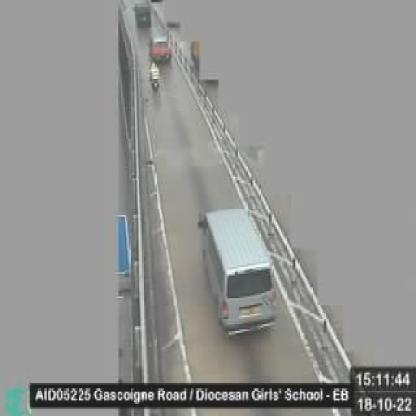Car: (197, 207, 278, 334), (150, 34, 174, 65), (133, 3, 152, 30)
